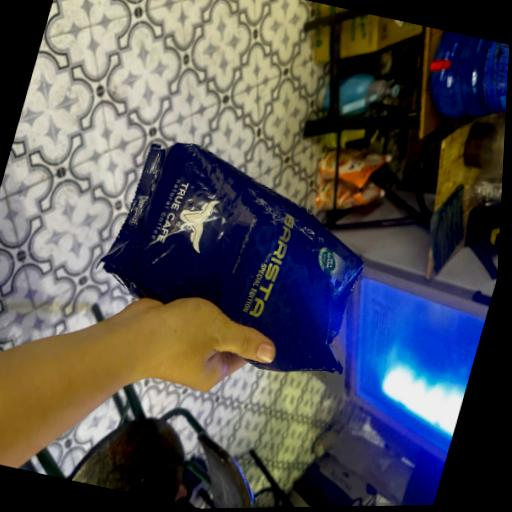cafe_hat: (99, 143, 362, 372)
